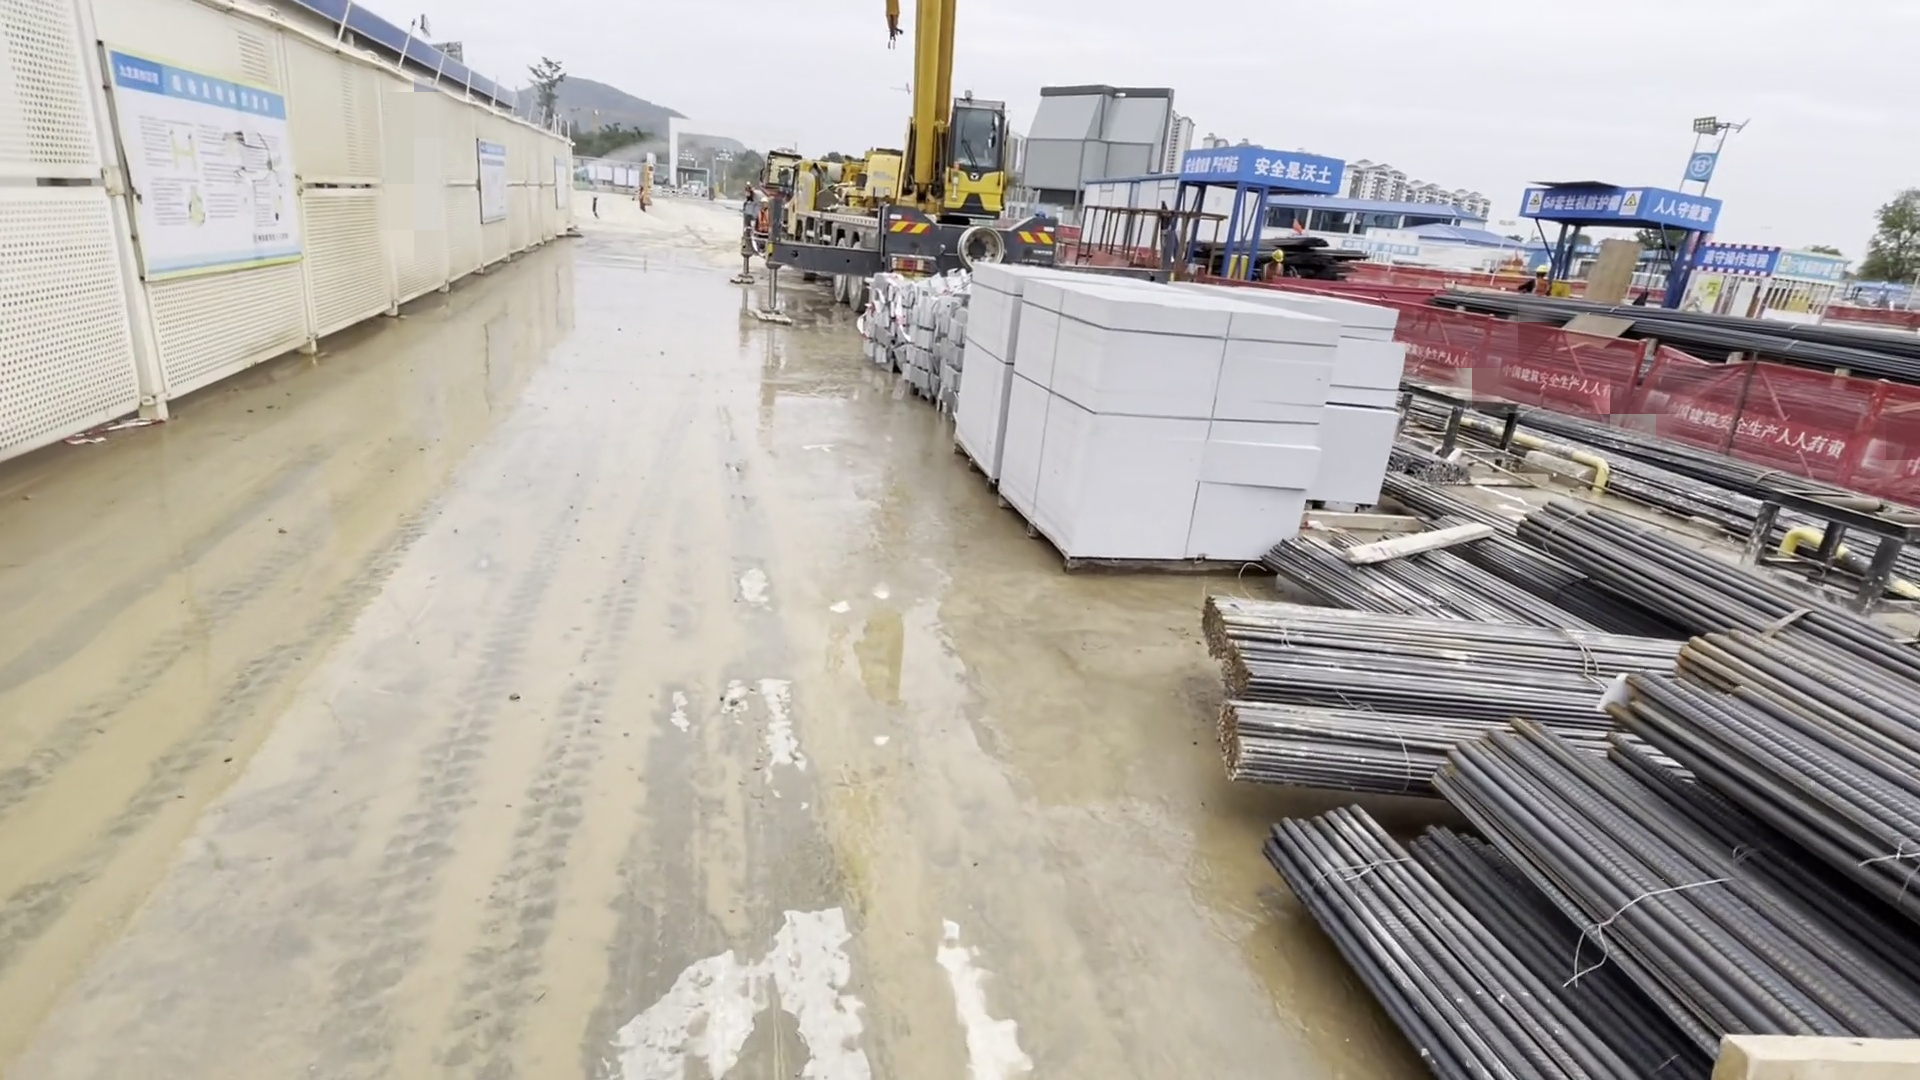brick: (957, 266, 1395, 570)
slogan: (98, 44, 310, 294), (1513, 175, 1725, 227), (1168, 149, 1356, 203)
